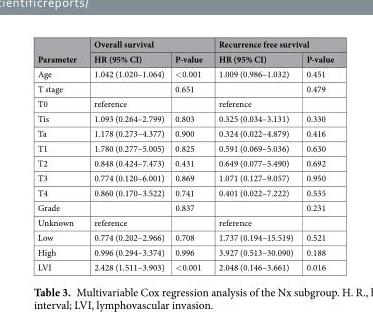table: (36, 37, 333, 272)
table column: (209, 37, 299, 272), (84, 37, 169, 272), (36, 37, 84, 272), (169, 37, 209, 272), (299, 37, 333, 272)
table column header: (36, 37, 333, 66)
table row: (36, 51, 333, 66), (36, 80, 333, 95), (36, 95, 333, 110), (36, 110, 333, 125), (36, 125, 333, 140), (36, 140, 333, 155), (36, 155, 333, 170), (36, 184, 333, 199), (36, 199, 333, 214), (36, 214, 333, 229), (36, 229, 333, 244), (36, 244, 333, 259), (36, 37, 333, 51), (36, 66, 333, 80), (36, 170, 333, 184), (36, 259, 333, 272)
table spanning cell: (84, 37, 209, 51), (209, 37, 333, 51), (36, 37, 84, 66)
